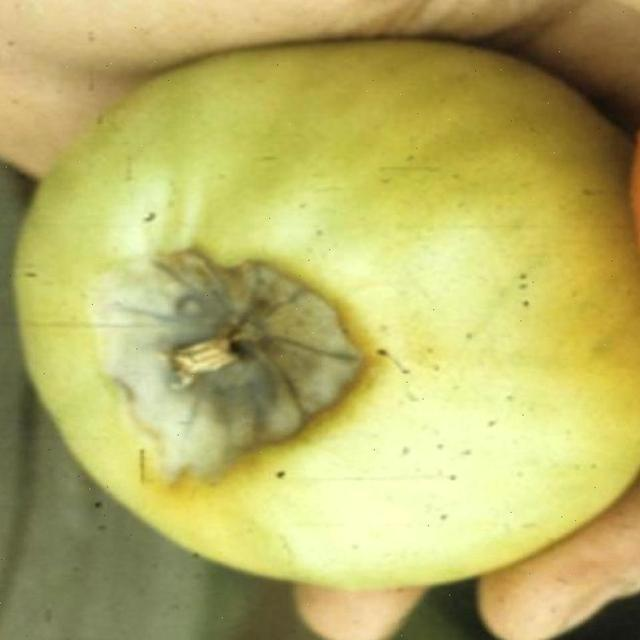Blossom End Rot Fruit: (64, 165, 244, 319)
